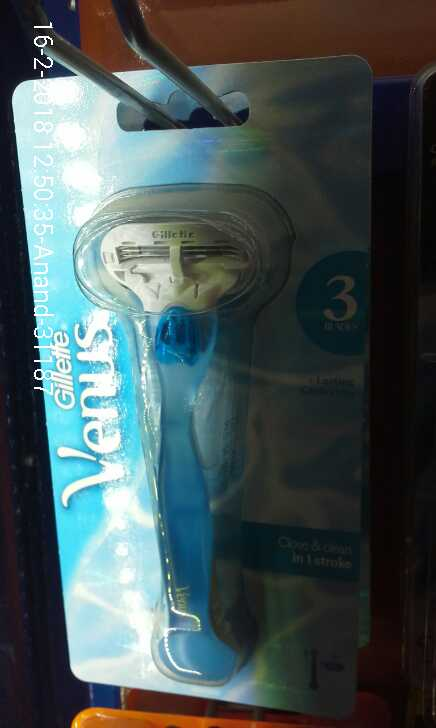venus: (65, 152, 319, 691)
